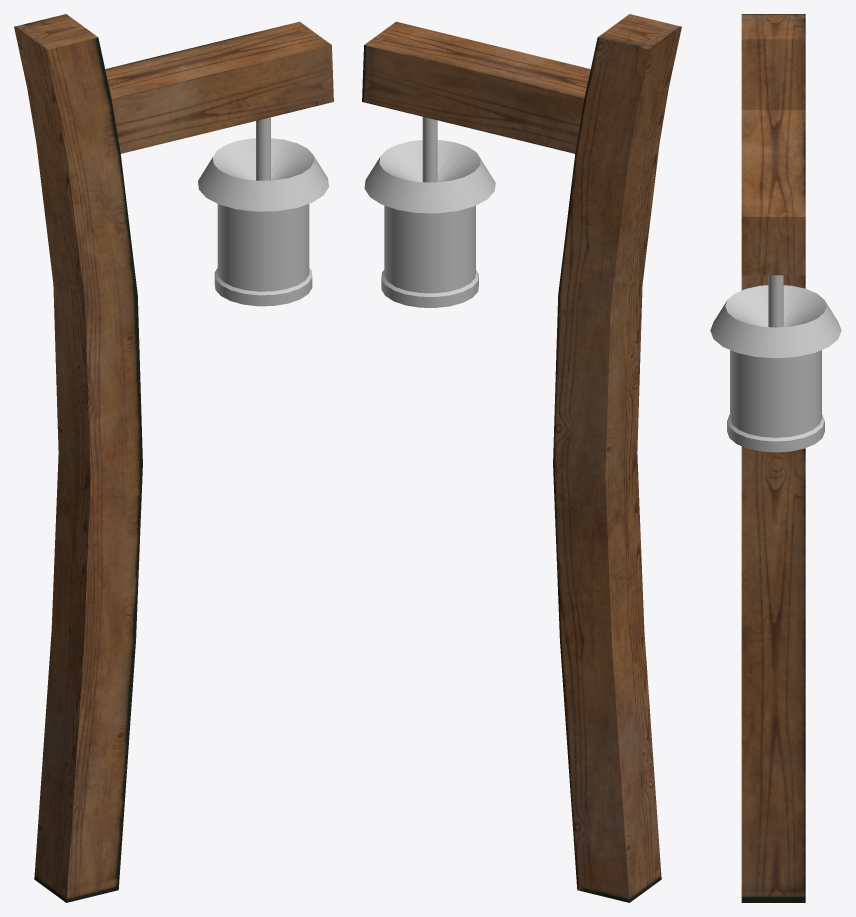
Rendered from Lamp.fbx.
The picture shows the model from 3 angles, left to right: view 1: azimuth 30°, elevation 25°; view 2: azimuth 150°, elevation 25°; view 3: azimuth 270°, elevation 25°; orthographic projection.
Parts seen in each view (by area): view 1: pasted__pCube15, pasted__pCylinder34; view 2: pasted__pCube15, pasted__pCylinder34; view 3: pasted__pCube15, pasted__pCylinder34.
Part boxes in pixels (left/top/right/bottom): pasted__pCube15: left=14, top=14, right=333, bottom=902; pasted__pCylinder34: left=198, top=117, right=328, bottom=306; pasted__pCube15: left=362, top=14, right=681, bottom=902; pasted__pCylinder34: left=364, top=117, right=495, bottom=307; pasted__pCube15: left=741, top=14, right=805, bottom=902; pasted__pCylinder34: left=710, top=275, right=841, bottom=452.
Size of the model in its own units: 113 by 318 by 44.39.
